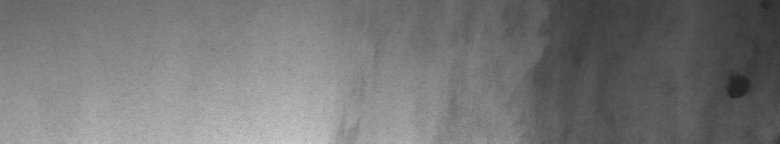fi: (724, 4, 769, 108)
